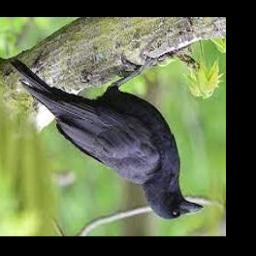Crow: (10, 57, 205, 220)
